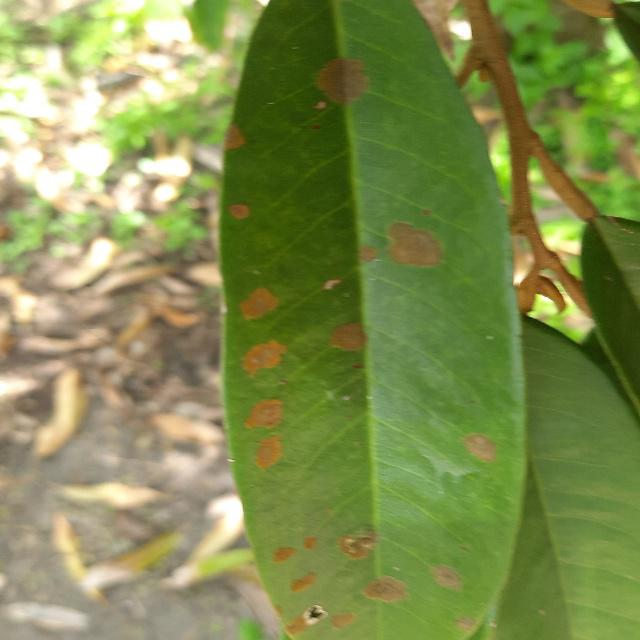Algal Leaf Spot: (207, 0, 535, 639)
